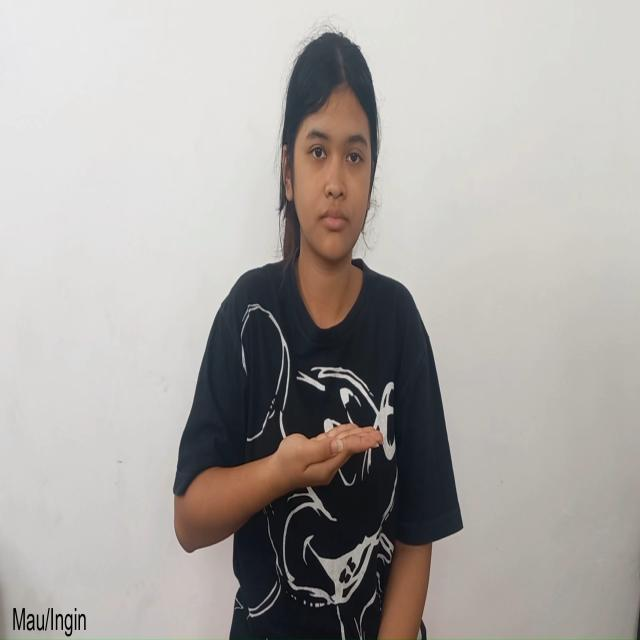Mau-Ingin -BISINDO-: (174, 408, 386, 560)
